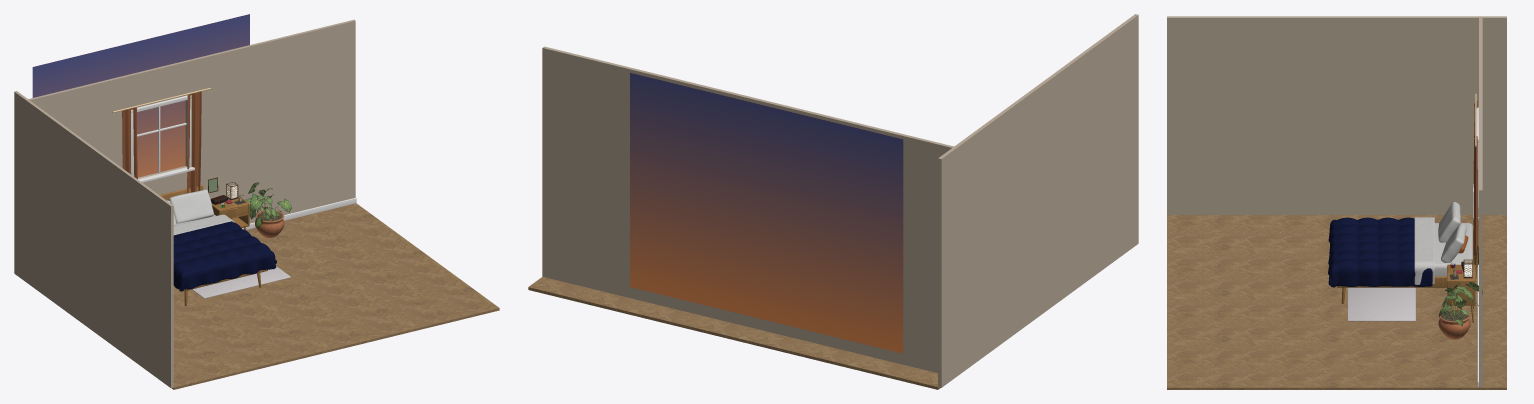
Rendered from bedroom.glb.
3 views of the same model, side by side, from view 1: azimuth 30°, elevation 25°; view 2: azimuth 150°, elevation 25°; view 3: azimuth 270°, elevation 25° (orthographic). The views are drawn at different scales.
Parts seen in each view (by area): view 1: Floor, SideWall, WallRight, WallFar, Sky, Duvet, WallLeft, WallAbove, Curtain1, potted_plant_02, Rug, Pillow1 (+5 smaller); view 2: Sky, SideWall, WallFar, WallLeft, Floor, WallRight, WallBelow; view 3: SideWall, Floor, Duvet, Rug, potted_plant_02, SheetFold, WallFar, Mattress, Nightstand, Pillow0, Pillow1, Curtain1 (+1 smaller).
Boxes of the visible parts, x1,y1,x2,y2 form: Floor: (172,203,499,389); SideWall: (14,91,173,388); WallRight: (185,34,295,223); WallFar: (295,19,355,212); Sky: (32,14,249,177); Duvet: (173,221,276,291); WallLeft: (28,74,132,167); WallAbove: (132,60,187,107); Curtain1: (186,91,201,193); potted_plant_02: (245,182,291,237); Rug: (192,266,290,298); Pillow1: (168,189,213,223); Sky: (630,72,903,353); SideWall: (938,14,1138,387); WallFar: (542,46,619,294); WallLeft: (822,115,953,372); Floor: (528,276,940,389); WallRight: (617,65,755,328); WallBelow: (754,317,822,344); SideWall: (1167,16,1506,214); Floor: (1167,215,1506,389); Duvet: (1328,217,1432,287); Rug: (1348,287,1415,321); potted_plant_02: (1438,282,1482,339); SheetFold: (1414,217,1434,284); WallFar: (1479,158,1482,387); Mattress: (1434,223,1472,276); Nightstand: (1447,264,1475,322); Pillow0: (1438,202,1460,242); Pillow1: (1441,223,1466,262); Curtain1: (1473,134,1478,256).
Bounding box in the file's own units: 60.5 × 34.9 × 51.9.
53 materials, 15 textured.
